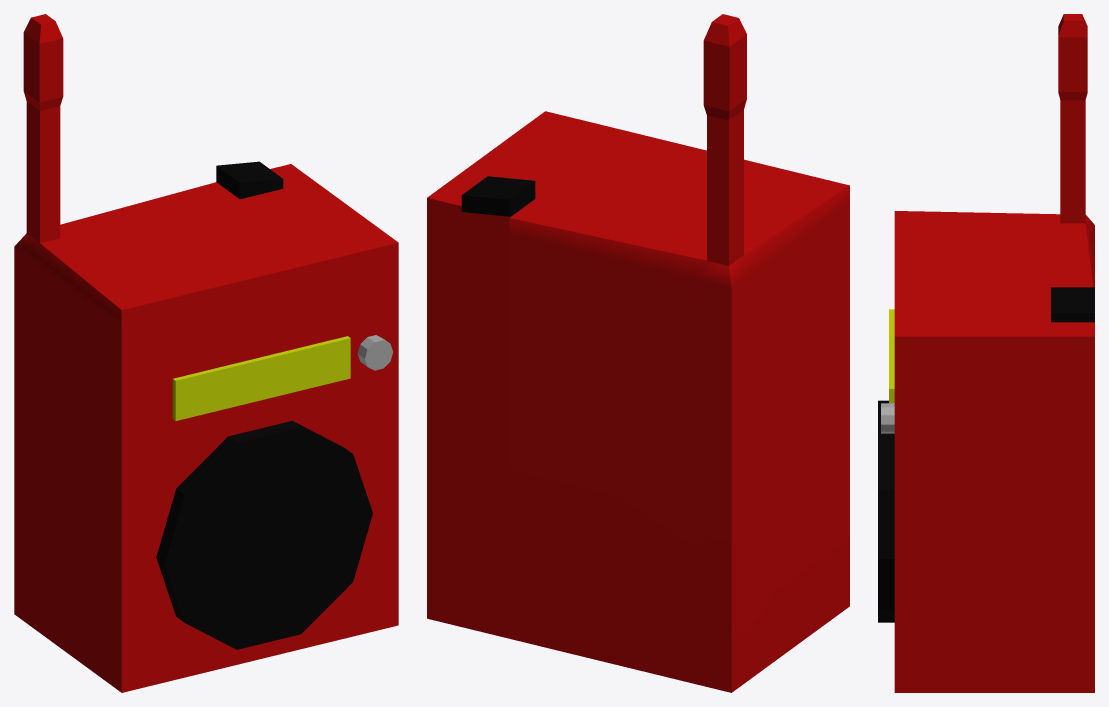
Rendered from Radio.fbx.
3 views of the same model, side by side, from view 1: azimuth 30°, elevation 25°; view 2: azimuth 150°, elevation 25°; view 3: azimuth 270°, elevation 25° (orthographic). The views are drawn at different scales.
Parts seen in each view (by area): view 1: Radio; view 2: Radio; view 3: Radio.
Boxes of the visible parts, <box> form: Radio: <box>14,14,398,692</box>; Radio: <box>427,14,849,692</box>; Radio: <box>878,14,1094,692</box>.
Size of the model in its own units: 1 by 2.07 by 0.7282.
